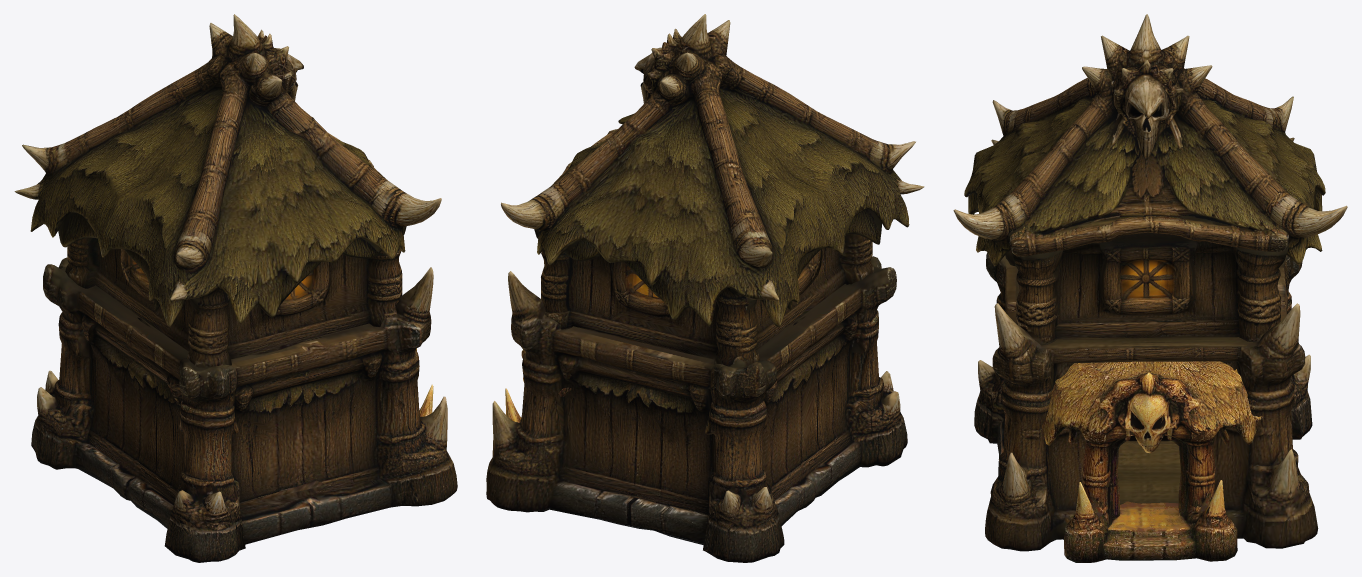
The model's file is Meshy_AI__0617021702_texture.glb_Clone1_Clone1_1.fbx.
3 views of the same model, side by side, from view 1: azimuth 30°, elevation 25°; view 2: azimuth 150°, elevation 25°; view 3: azimuth 270°, elevation 25° (orthographic).
Visible parts, largest first — view 1: First Story, tripo_part_89, First Floor; view 2: First Story, tripo_part_89, First Floor; view 3: tripo_part_89, First Story, Entrence, First Floor.
Part boxes in pixels (left/top/right/bottom): First Story: left=31, top=257, right=457, bottom=562; tripo_part_89: left=14, top=14, right=441, bottom=327; First Floor: left=65, top=226, right=406, bottom=367; First Story: left=486, top=256, right=907, bottom=562; tripo_part_89: left=501, top=14, right=924, bottom=327; First Floor: left=534, top=229, right=874, bottom=367; tripo_part_89: left=953, top=14, right=1347, bottom=266; First Story: left=974, top=252, right=1318, bottom=551; Entrence: left=1041, top=361, right=1262, bottom=562; First Floor: left=1005, top=232, right=1288, bottom=345.
Bounding box in the file's own units: 0.7273 × 0.9866 × 0.7615.
